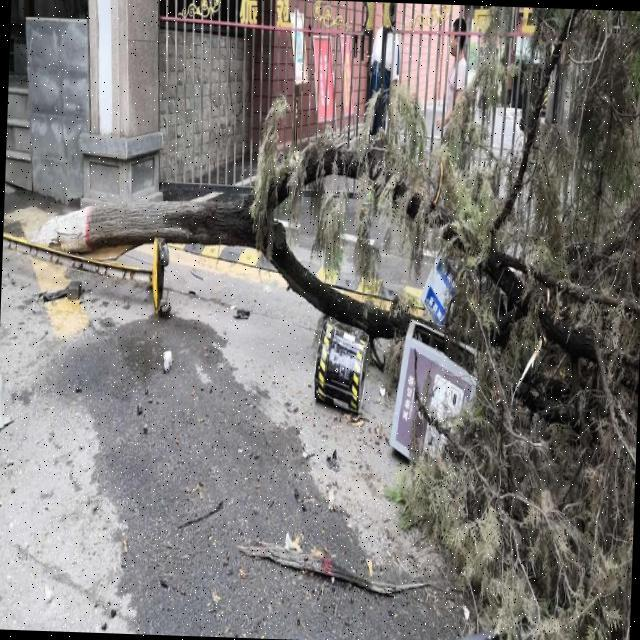fallen_object: (19, 104, 640, 435)
